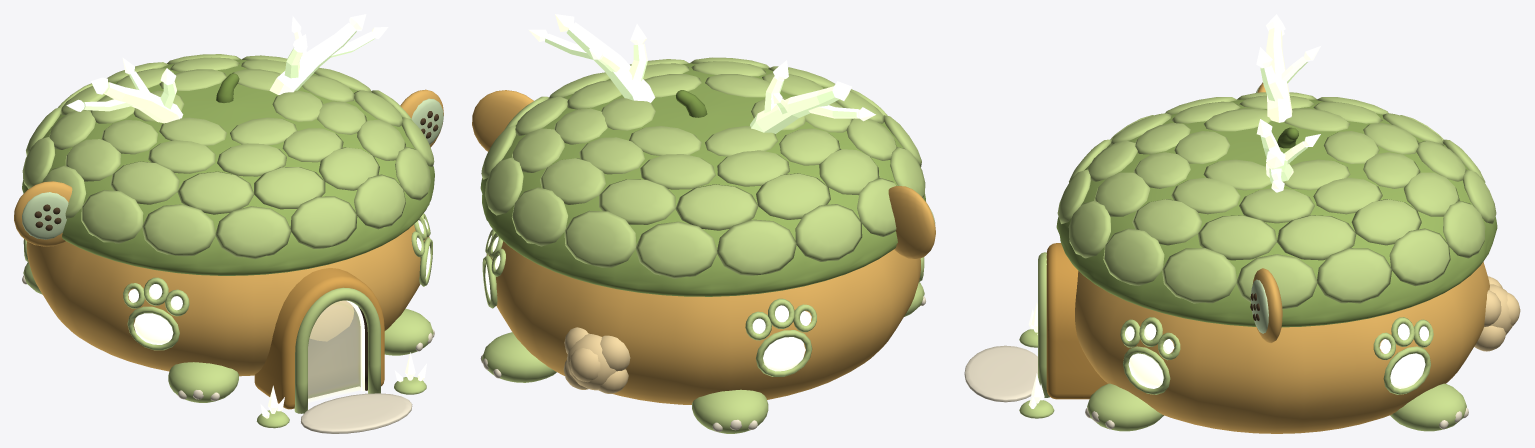
The model's file is house_04_0410.fbx.
3 renders of one model, left to right at view 1: azimuth 30°, elevation 25°; view 2: azimuth 150°, elevation 25°; view 3: azimuth 270°, elevation 25°, orthographic. The views are drawn at different scales.
Parts seen in each view (by area): view 1: House_AcornCap_Scales, House_Body, House_AcornCap, House_Entrance, House_CrystalAntlers, House_GlowMembrane, House_Paws, House_EntranceStep, House_DoorRim, House_PawWindows_Rim, House_EarVent_Inner, House_EarVent_Shell (+7 smaller); view 2: House_AcornCap_Scales, House_Body, House_AcornCap, House_CrystalAntlers, House_Paws, House_EarVent_Shell, House_Tail, House_PawWindows_Rim, House_PawWindows_Glow, House_AntlerGlowTips, House_CapStem; view 3: House_AcornCap_Scales, House_Body, House_AcornCap, House_Entrance, House_Paws, House_PawWindows_Rim, House_EntranceStep, House_CrystalAntlers, House_PawWindows_Glow, House_Tail, House_AntlerGlowTips, House_DoorRim (+3 smaller).
Part boxes in pixels (x1,y1,x2,y2): House_AcornCap_Scales: [22, 54, 434, 259]; House_Body: [26, 224, 429, 376]; House_AcornCap: [22, 59, 434, 275]; House_Entrance: [254, 268, 384, 409]; House_CrystalAntlers: [83, 22, 375, 123]; House_GlowMembrane: [308, 300, 360, 402]; House_Paws: [23, 262, 433, 402]; House_EntranceStep: [301, 393, 412, 433]; House_DoorRim: [294, 287, 380, 413]; House_PawWindows_Rim: [23, 213, 432, 350]; House_EarVent_Inner: [22, 98, 443, 239]; House_EarVent_Shell: [14, 89, 443, 246]; House_AcornCap_Scales: [481, 57, 925, 278]; House_Body: [486, 241, 920, 404]; House_AcornCap: [480, 63, 925, 296]; House_CrystalAntlers: [545, 22, 859, 133]; House_Paws: [482, 282, 924, 433]; House_EarVent_Shell: [472, 90, 935, 259]; House_Tail: [563, 327, 630, 393]; House_PawWindows_Rim: [482, 229, 924, 376]; House_PawWindows_Glow: [485, 235, 811, 371]; House_AntlerGlowTips: [528, 14, 875, 121]; House_CapStem: [676, 90, 707, 117]; House_AcornCap_Scales: [1057, 92, 1496, 308]; House_Body: [1075, 262, 1489, 433]; House_AcornCap: [1056, 99, 1497, 327]; House_Entrance: [1046, 243, 1107, 399]; House_Paws: [1087, 383, 1466, 431]; House_PawWindows_Rim: [1120, 317, 1433, 394]; House_EntranceStep: [964, 345, 1037, 402]; House_CrystalAntlers: [1260, 28, 1307, 183]; House_PawWindows_Glow: [1125, 323, 1428, 388]; House_Tail: [1474, 276, 1520, 351]; House_AntlerGlowTips: [1256, 14, 1320, 192]; House_DoorRim: [1038, 252, 1049, 397].
Bounding box in the file's own units: 6.38 × 3.94 × 6.76.
